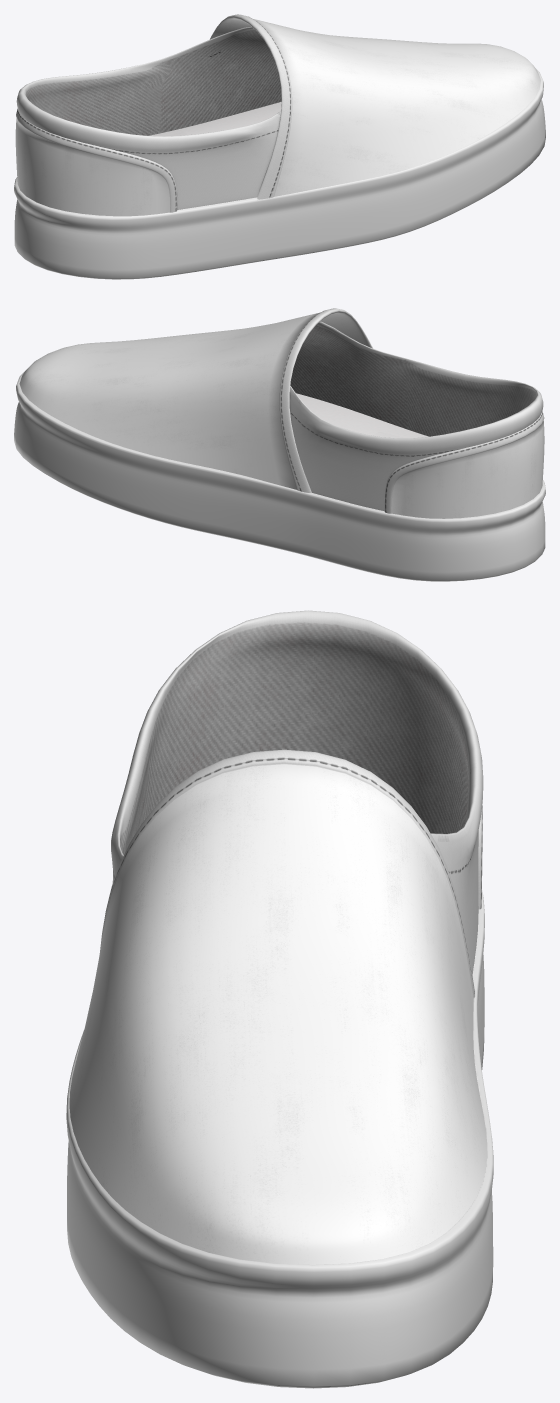
File: shoe.glb
3 views of the same model, one above another, from view 1: azimuth 30°, elevation 25°; view 2: azimuth 150°, elevation 25°; view 3: azimuth 270°, elevation 25° (orthographic). The views are drawn at different scales.
Parts seen in each view (by area): view 1: Shoe.Outside, Shoe.Bottom, Shoe.Inside; view 2: Shoe.Outside, Shoe.Bottom, Shoe.Inside; view 3: Shoe.Outside, Shoe.Bottom, Shoe.Inside.
Boxes of the visible parts, x1,y1,x2,y2 form: Shoe.Outside: (15, 14, 540, 216); Shoe.Bottom: (14, 69, 545, 279); Shoe.Inside: (16, 26, 281, 209); Shoe.Outside: (19, 308, 544, 518); Shoe.Bottom: (14, 370, 545, 581); Shoe.Inside: (289, 321, 543, 510); Shoe.Outside: (69, 749, 487, 1264); Shoe.Bottom: (66, 890, 493, 1388); Shoe.Inside: (111, 610, 483, 975).
Size of the model in its own units: 4.51 by 1.67 by 1.63.
Materials: 4 (4 with a texture image).
